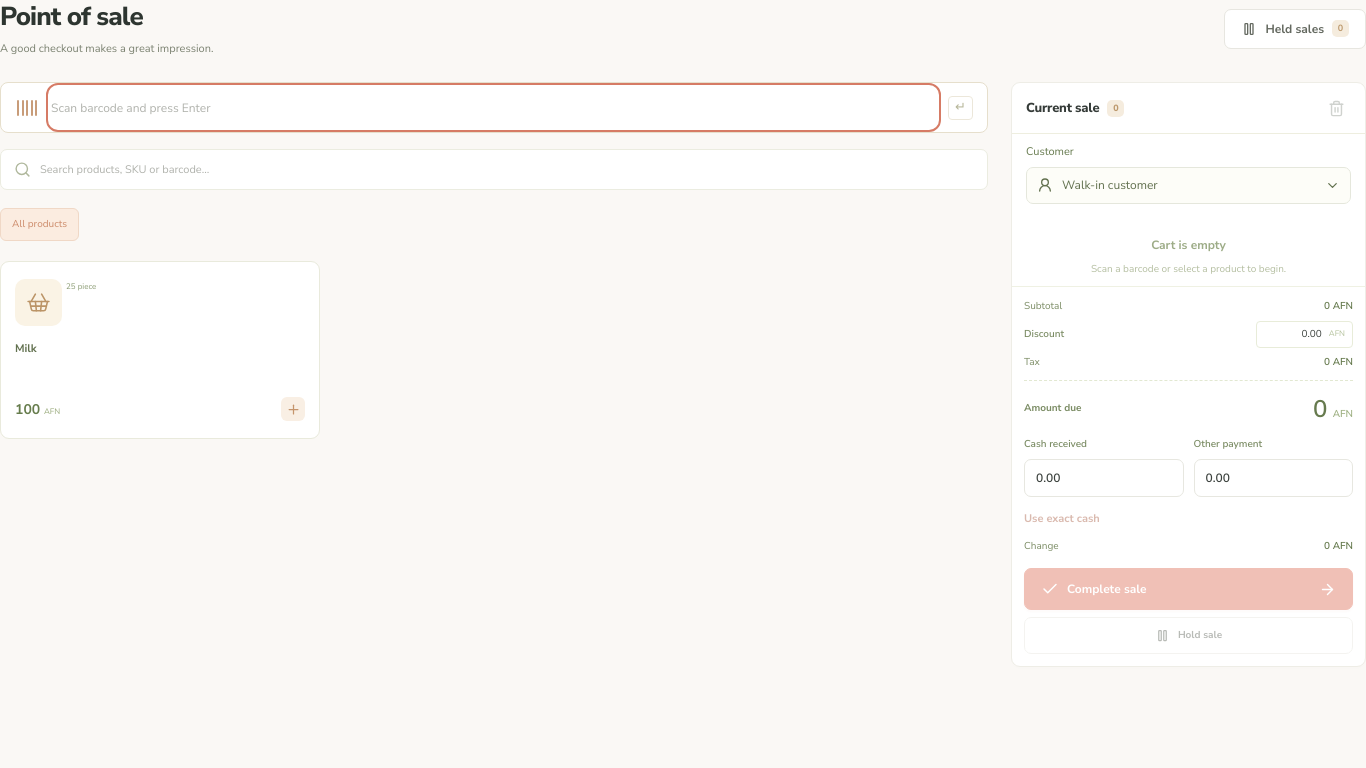
Test case: walk-in checkout and customer selection › defaults to walk-in and submits the visible exact cash amount, including quantity, discount and split-payment changes
Check: the button "Customer Walk-in customer" is shown, box [1026, 167, 1351, 204]
Click the button "25 piece Milk 100 AFN".
click(38, 303)  # box [0, 261, 320, 439]
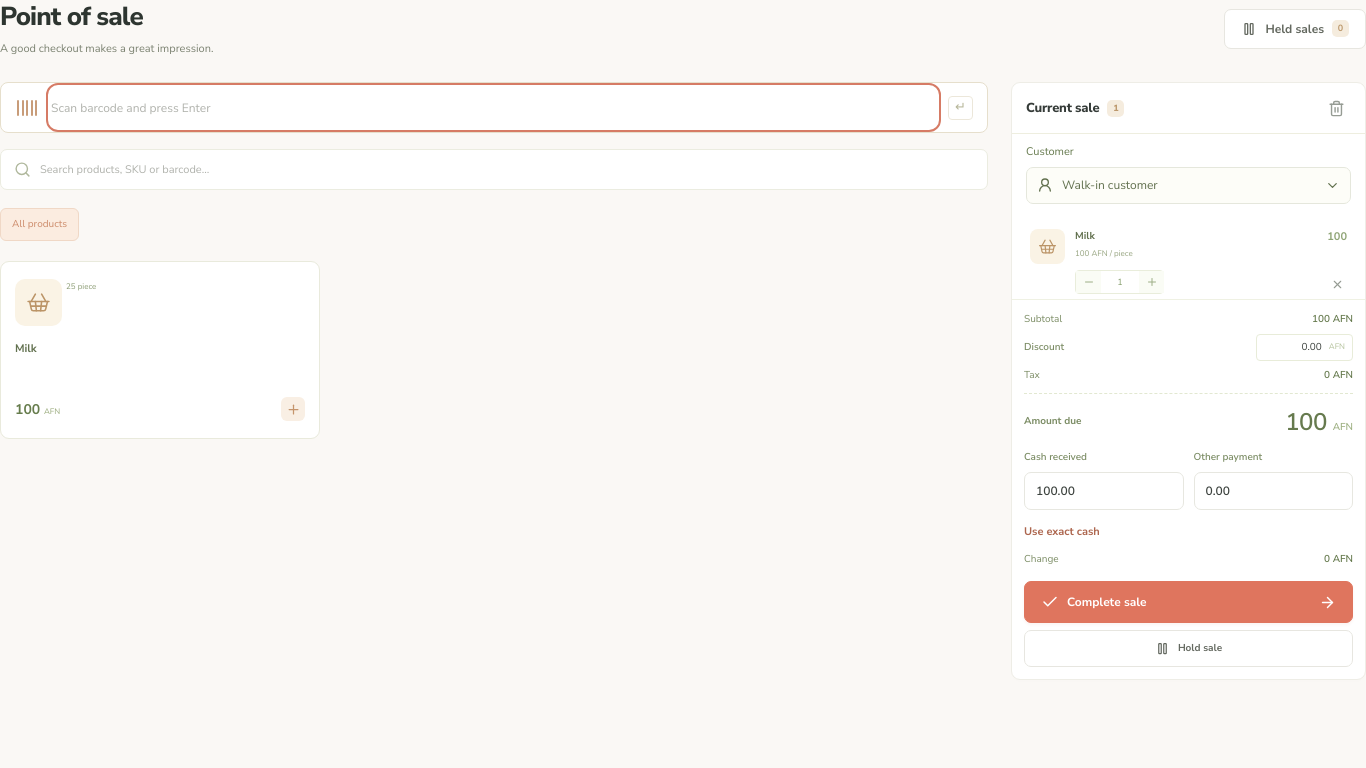
Check: the button "Complete sale" is enabled, box [1024, 581, 1353, 623]
Check: the field labelled "Cash received" holds "100.00", box [1024, 472, 1184, 510]
Click the button named "Increase Milk".
click(1152, 282)  # box [1139, 271, 1164, 293]
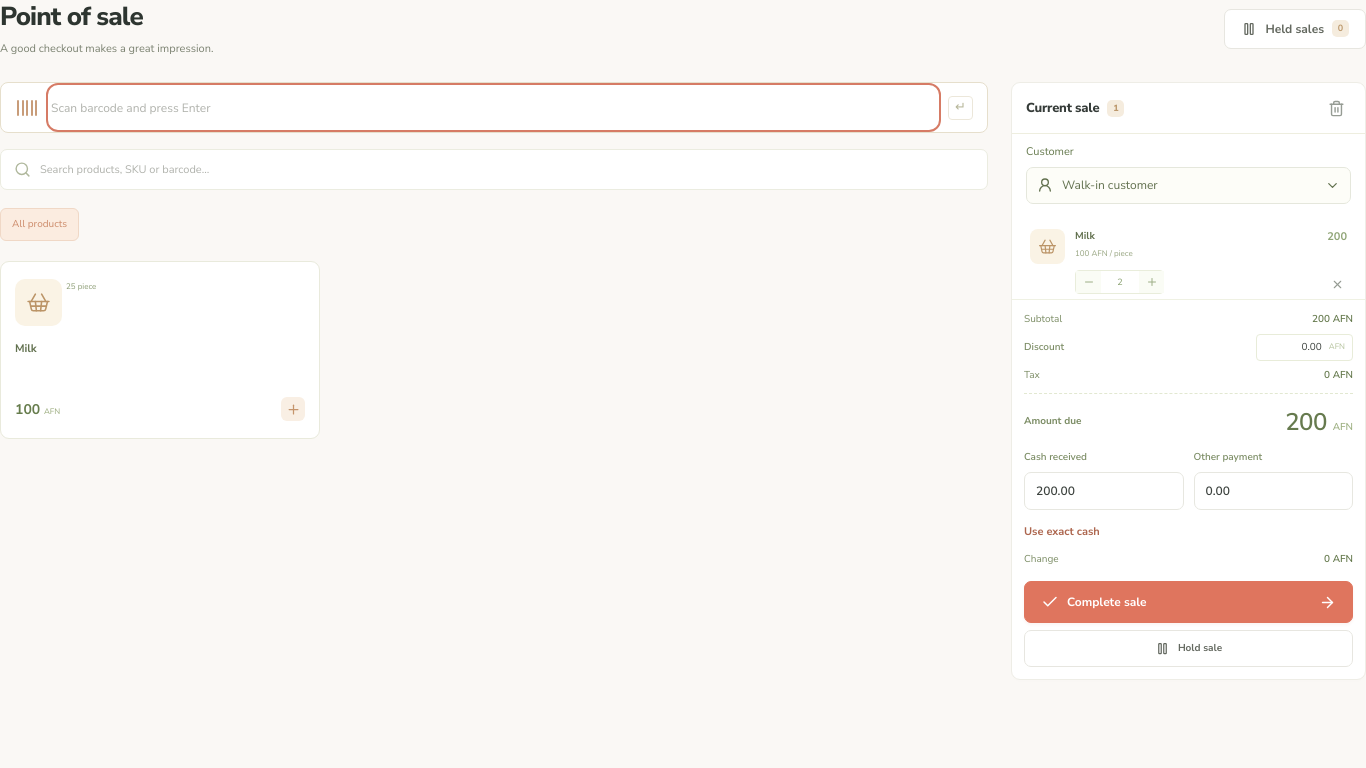
Check: the field labelled "Cash received" holds "200.00", box [1024, 472, 1184, 510]
Replace the text in the field labelled "Discount" with "10" at (1293, 347), box [1264, 335, 1322, 360]
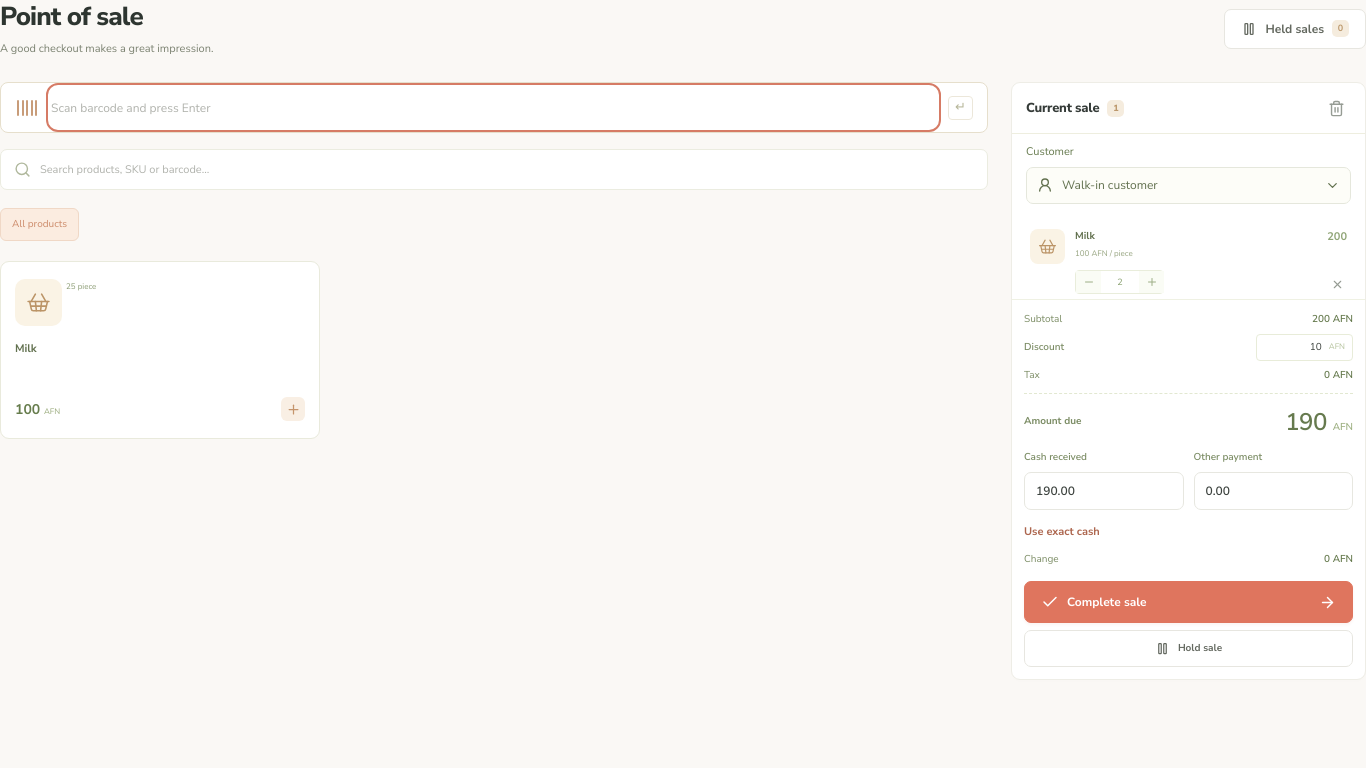
Check: the field labelled "Cash received" holds "190.00", box [1024, 472, 1184, 510]
Replace the text in the field labelled "Other payment" with "40" at (1273, 491), box [1194, 472, 1353, 510]
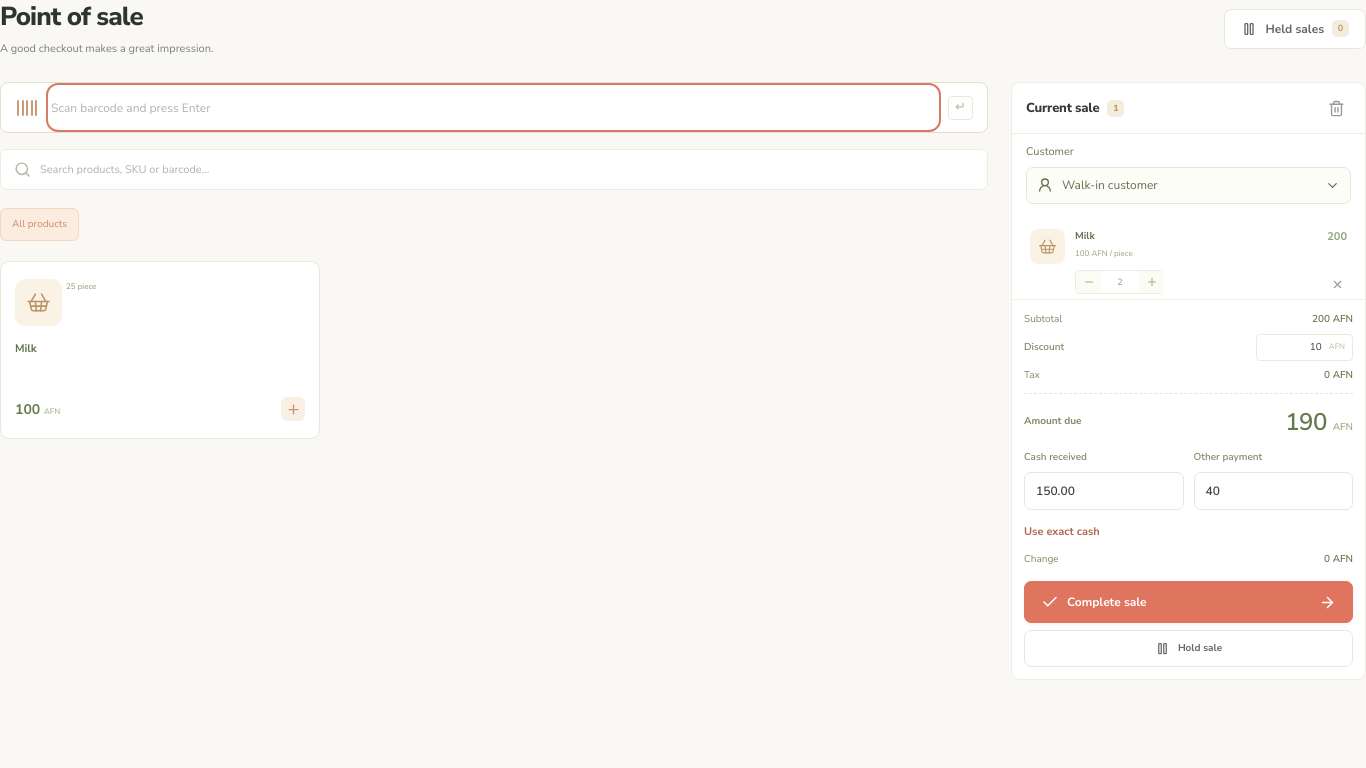
Check: the field labelled "Cash received" holds "150.00", box [1024, 472, 1184, 510]
Click the button "Complete sale".
click(1107, 602)  # box [1024, 581, 1353, 623]
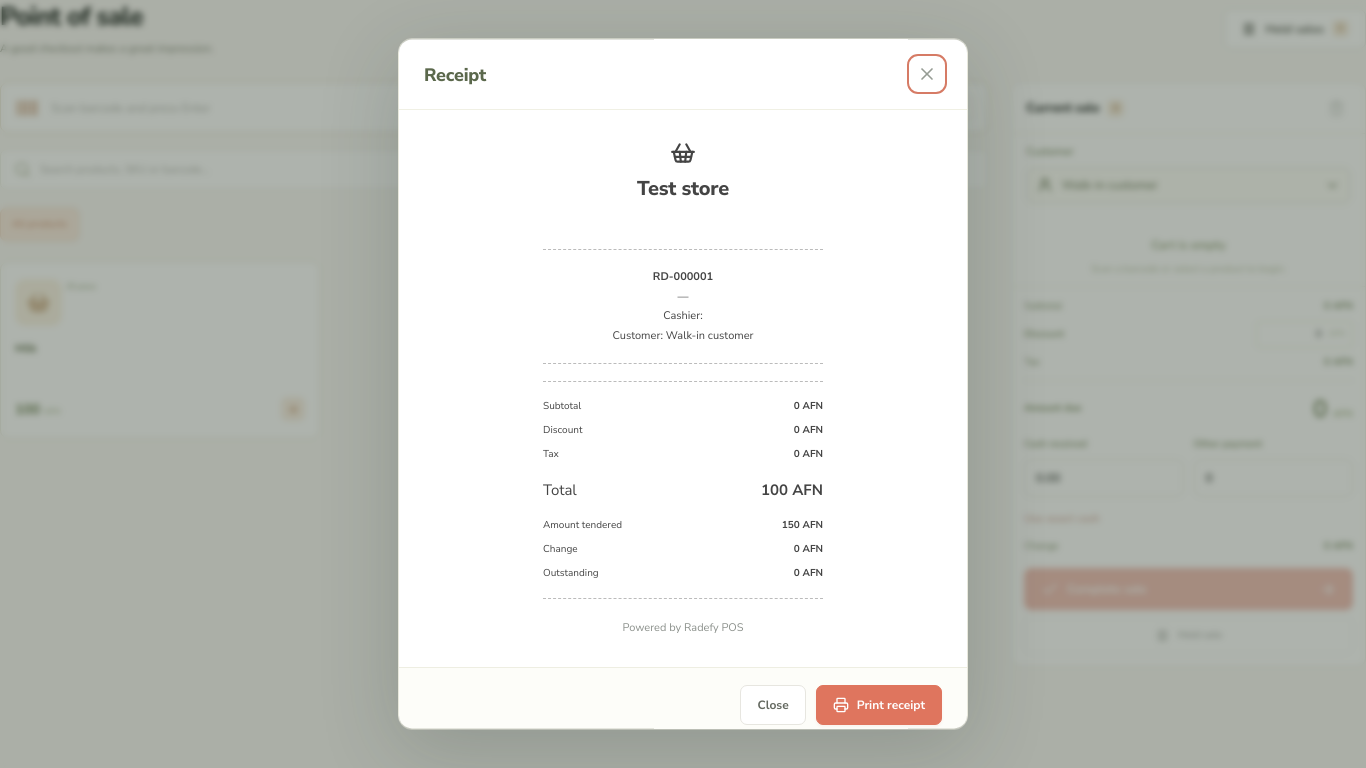
Check: the dialog "Receipt" shows "Customer: Walk-in customer", box [398, 38, 968, 730]
